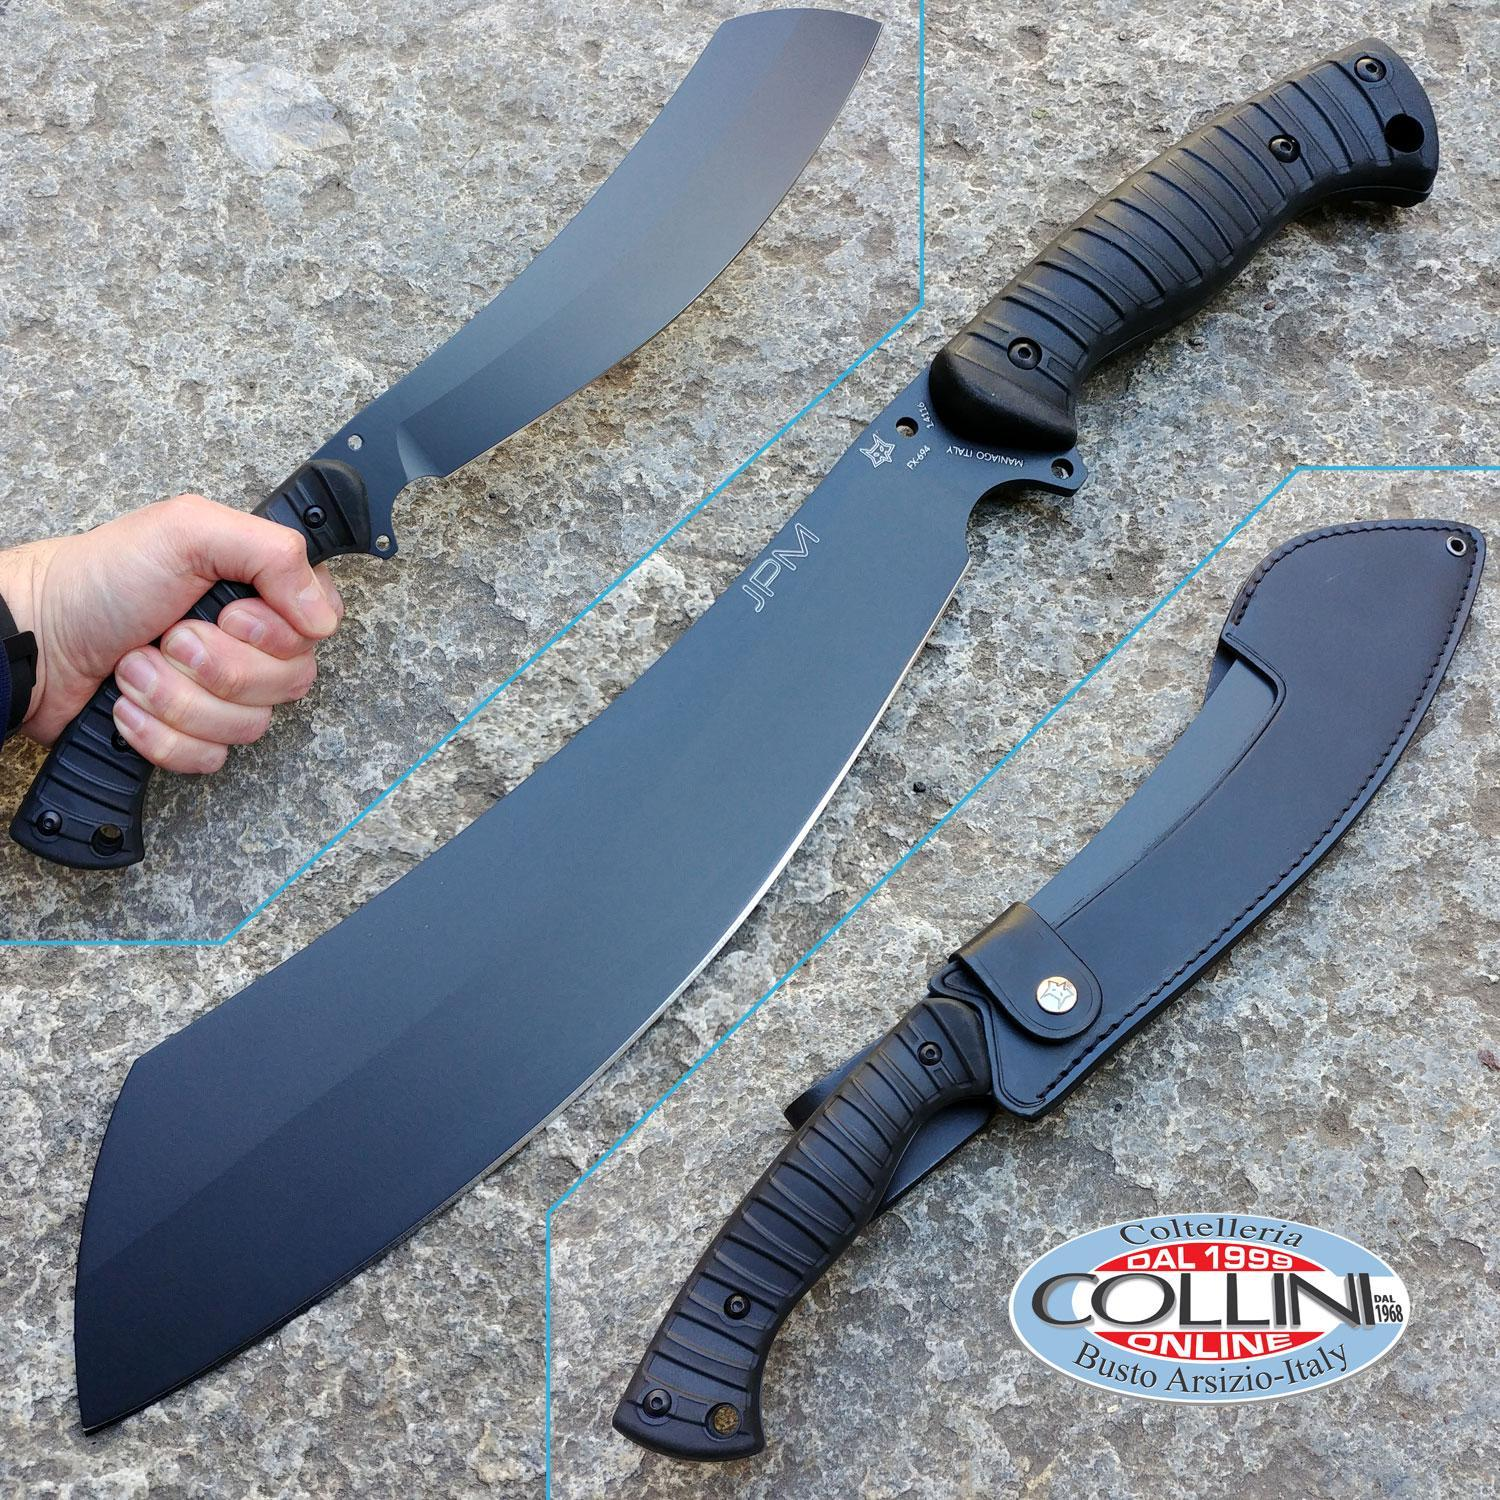facao: (76, 40, 1437, 1429), (615, 521, 1484, 1457), (258, 10, 879, 562)
